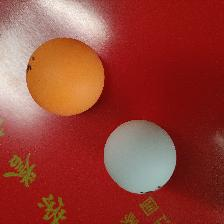WhiteBall: (103, 119, 176, 194)
YellowBall: (25, 37, 104, 116)
